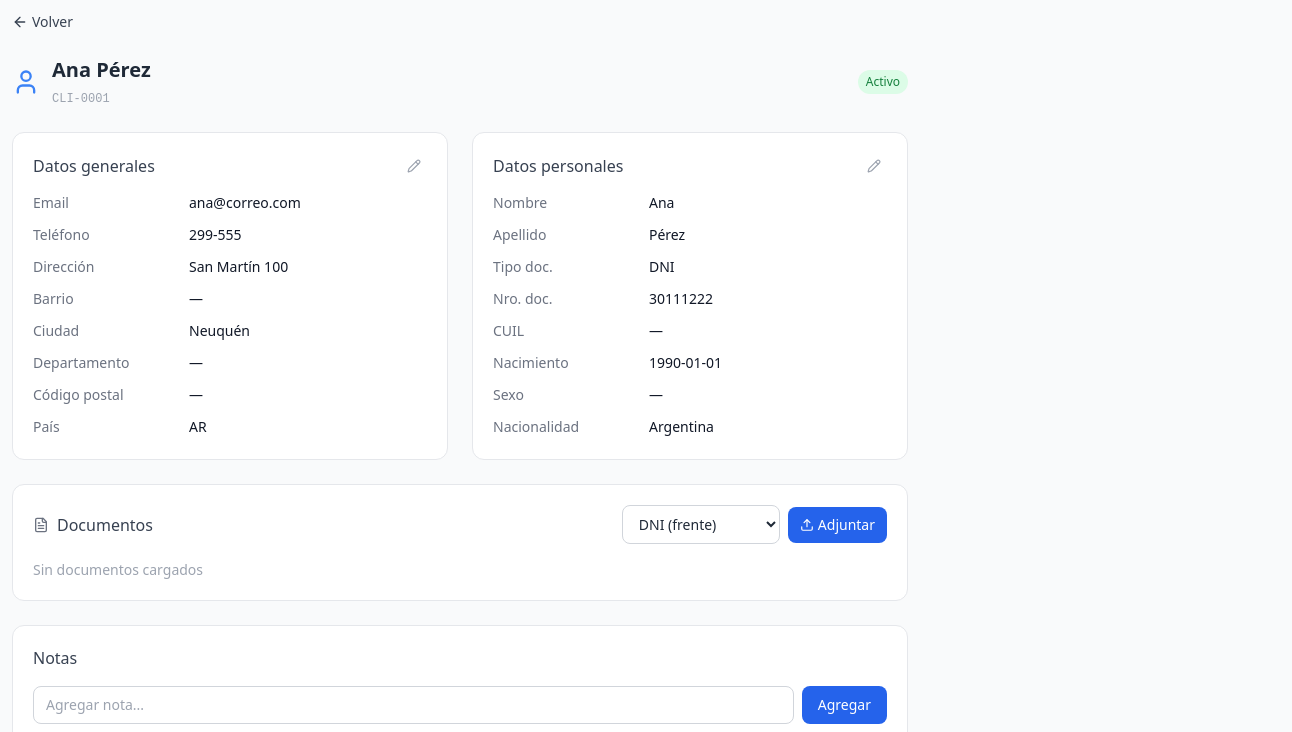
ClienteDetailPage — edición de datos › cancelar la edición recarga el cliente y descarta los cambios
The width and height of the screenshot is (1292, 732).
Expected: the heading "Ana Pérez" is shown, [52,56,151,84]
Click the button without text in the row of "Datos generales".
click(414, 166)  # box [401,153,427,179]
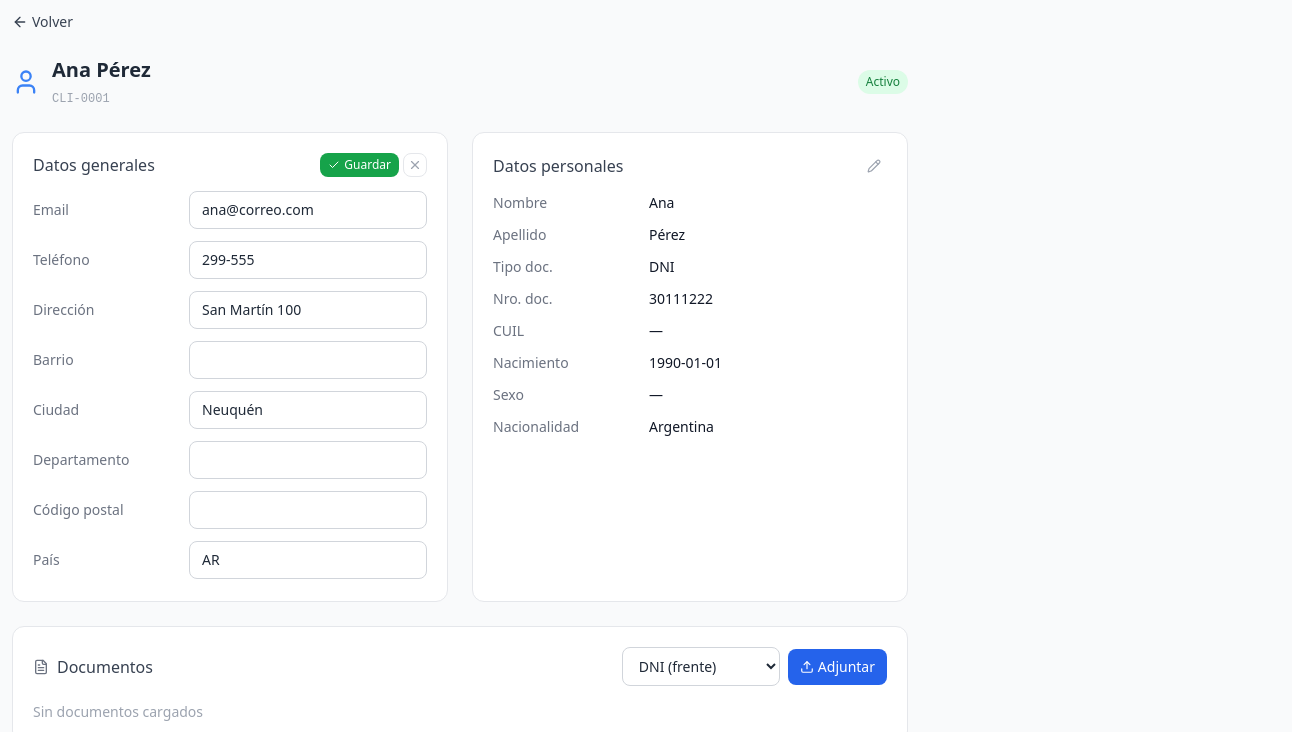
Click the button without text in the row of "Datos generales".
click(415, 165)  # box [403,153,427,177]
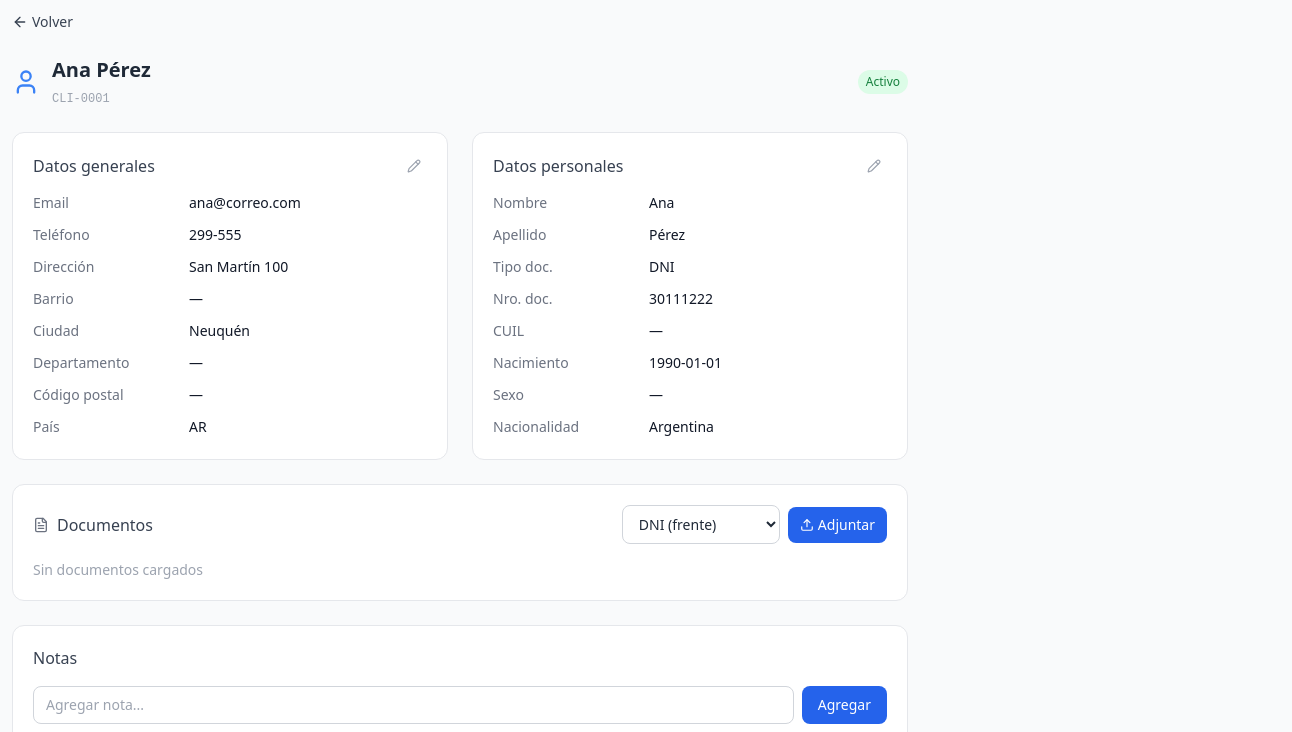
Result: the text "ana@correo.com" is shown at [189,193,301,212]
